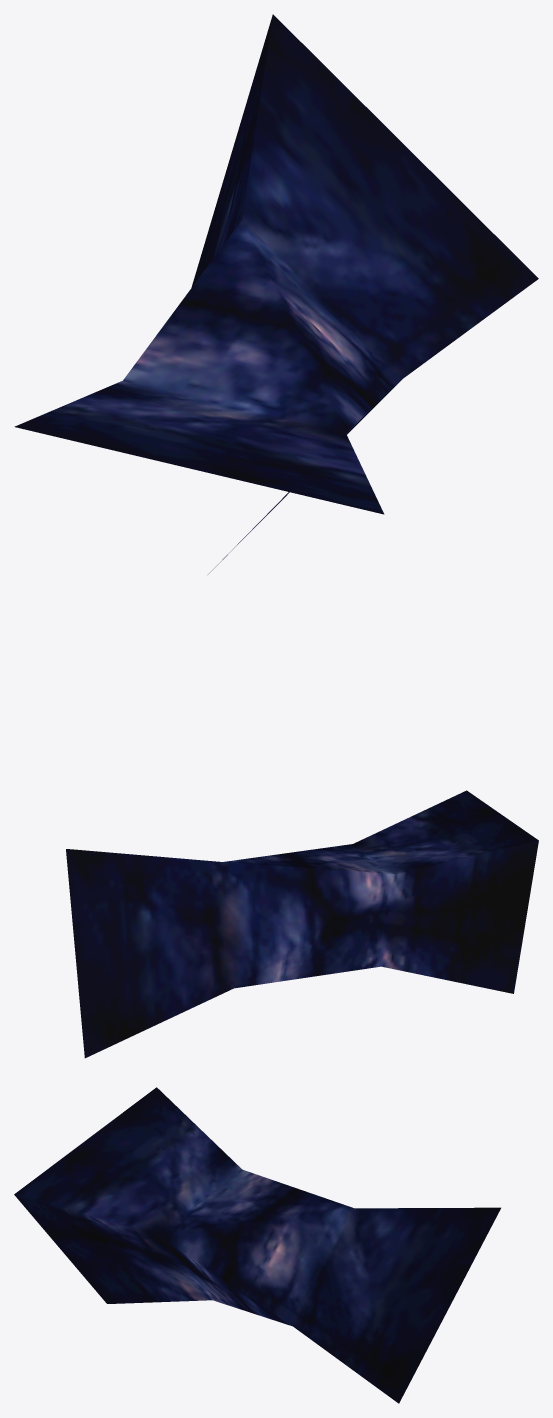
3 renders of one model, top to bottom at view 1: azimuth 30°, elevation 25°; view 2: azimuth 150°, elevation 25°; view 3: azimuth 270°, elevation 25°, orthographic. The views are drawn at different scales.
Parts seen in each view (by area): view 1: Object10; view 2: Object10; view 3: Object10.
Part boxes in pixels (x1,y1,x2,y2): Object10: (14, 14, 538, 574); Object10: (66, 790, 538, 1058); Object10: (14, 1087, 500, 1403).
Bounding box in the file's own units: 3721 × 1899 × 3926.
1 material, 1 textured.
